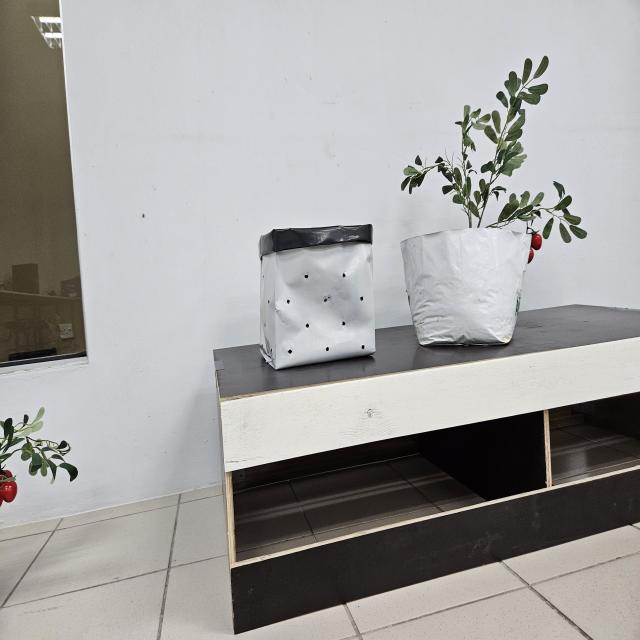Soilbag: (258, 225, 376, 372), (401, 227, 534, 350)
Tomato: (529, 232, 545, 262)
plant: (400, 56, 587, 264)
